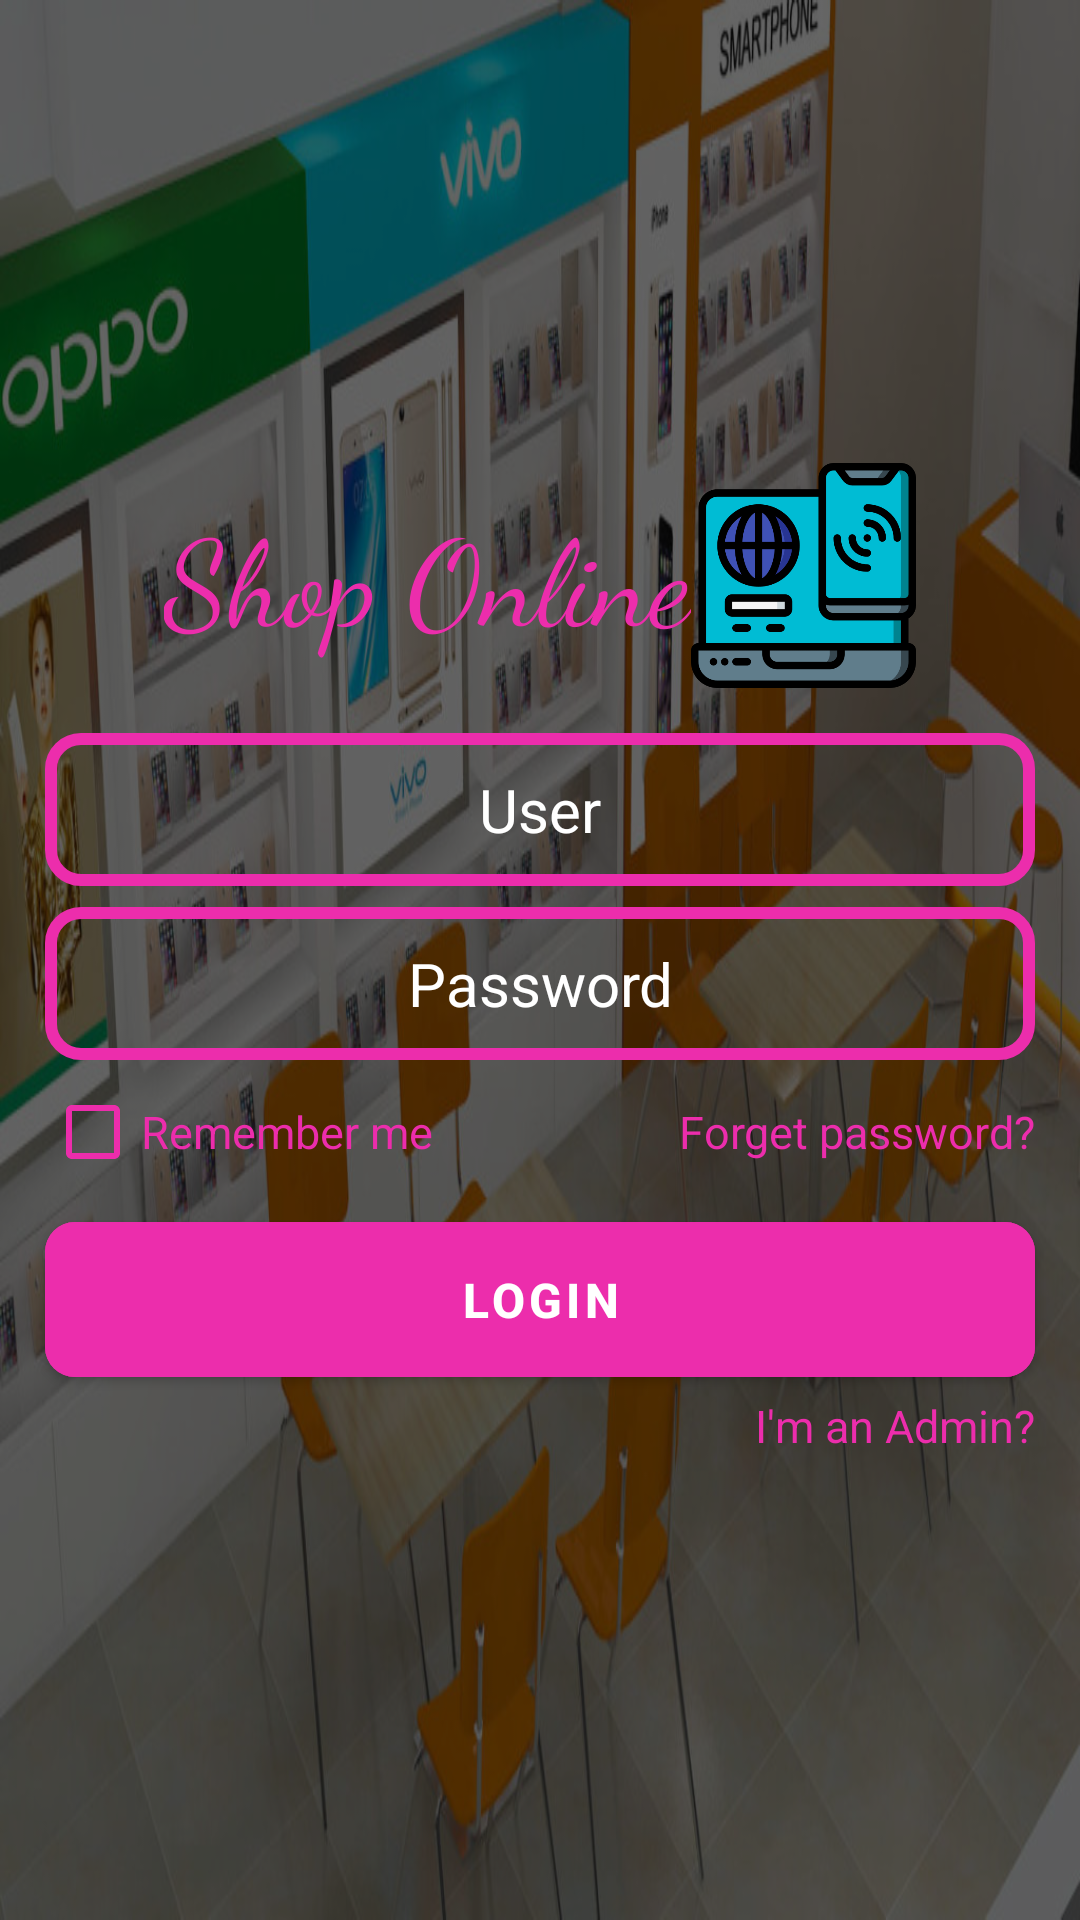

Point at icon controls on the screen. Image size 1080 × 1920, points as [x,y].
laptop: [803,575]
